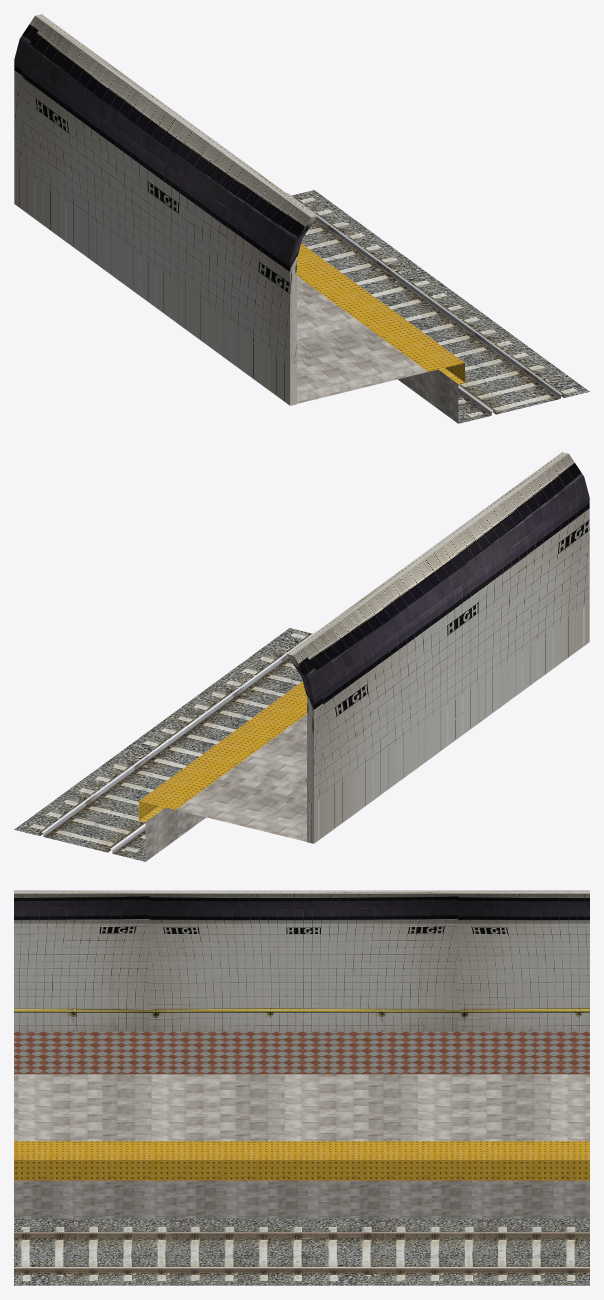
The model's file is station.glb.
3 renders of one model, top to bottom at view 1: azimuth 30°, elevation 25°; view 2: azimuth 150°, elevation 25°; view 3: azimuth 270°, elevation 25°, orthographic. The views are drawn at different scales.
Parts seen in each view (by area): view 1: Cube.001, Plane; view 2: Cube.001, Plane; view 3: Plane, Cube.001.
Boxes of the visible parts, x1=… form: Cube.001: x1=14, y1=14, x2=317, y2=405; Plane: x1=14, y1=190, x2=589, y2=423; Cube.001: x1=286, y1=452, x2=589, y2=843; Plane: x1=14, y1=628, x2=589, y2=861; Plane: x1=14, y1=1074, x2=589, y2=1285; Cube.001: x1=14, y1=890, x2=589, y2=1074.
Bounding box in the file's own units: 11.38 × 8.78 × 18.11.
Materials: 5 (5 with a texture image).
